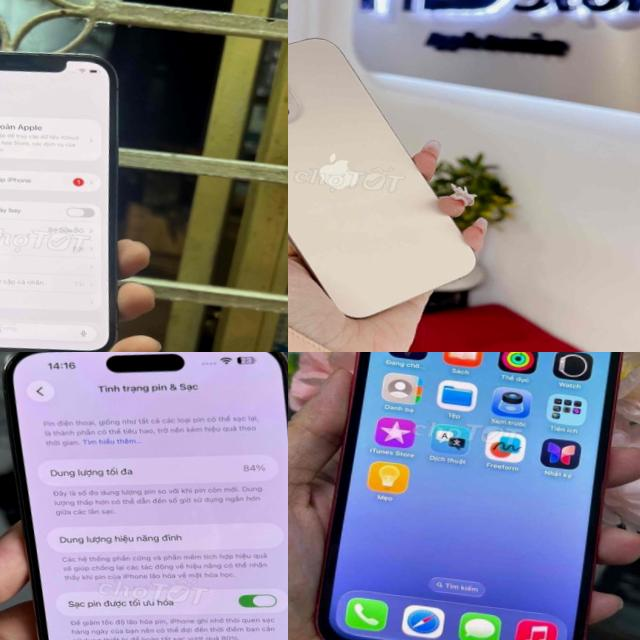gen_11: (300, 352, 639, 640)
gen_12_13: (0, 51, 117, 352)
gen_14: (0, 352, 288, 640)
gen_16: (288, 39, 474, 317)
